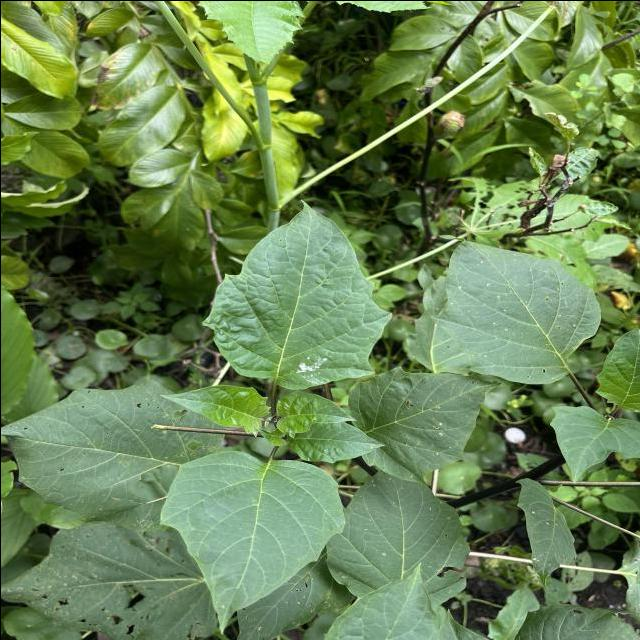Datura metal linn: (200, 196, 392, 391), (156, 448, 347, 635), (426, 230, 602, 388), (344, 363, 502, 483), (156, 382, 272, 437)
